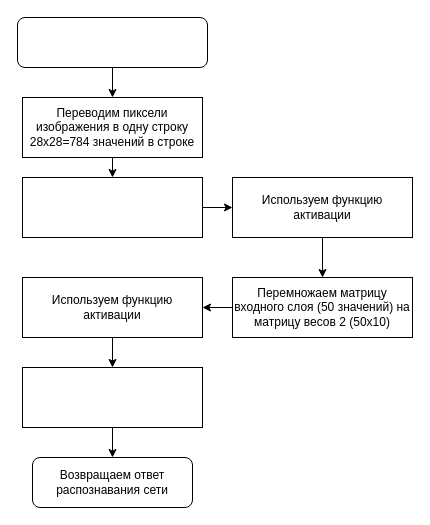
The diagram is 430 pixels wide and 525 high, and some of its shapes have lost their labels. The shapes that lost their labels are listed below. From the top down, each one's centre as x and y in pixels, then its label:
At [112,42]: "Получаем выбранное изображение и разметку к нему".
At [112,207]: "Перемножаем матрицу входного слоя (784 значений) на матрицу весов 1 (784х50)".
At [112,397]: "Макс. значение функции активации будет являться ответом сети".
